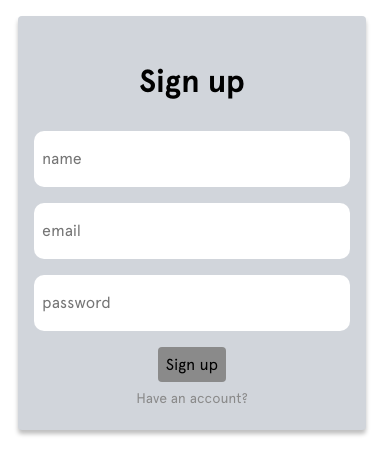
Test: example to-do app › can not signup with a user that already exists
Expected: the heading "Sign up" is shown, x1=139 y1=61 x2=245 y2=101
Type "test" into the field with test id "name".
click(192, 159); type("test")  # box x1=34 y1=131 x2=350 y2=187
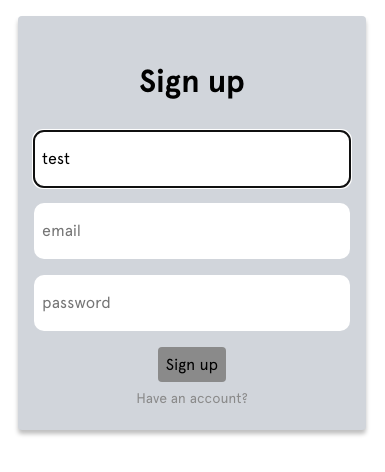
Type "test@gmail.com" into the field with test id "email".
click(192, 231); type("test@gmail.com")  # box x1=34 y1=203 x2=350 y2=259
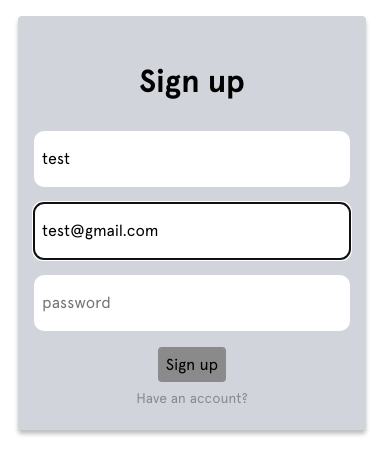
Type "123456" into the password field with test id "password".
click(192, 303); type("123456")  # box x1=34 y1=275 x2=350 y2=331
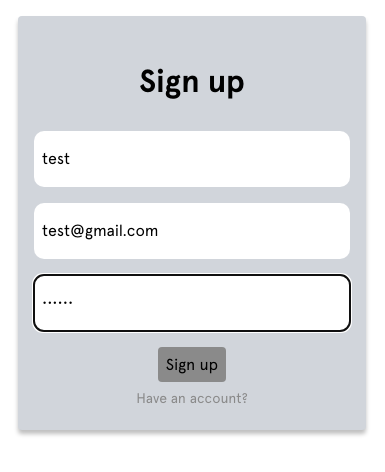
Click the button with test id "signup-button".
click(192, 365)  # box x1=158 y1=347 x2=226 y2=382
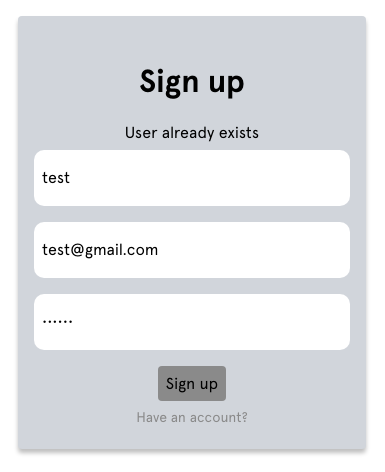
Now the text "User already exists" is shown, box x1=125 y1=123 x2=259 y2=142
